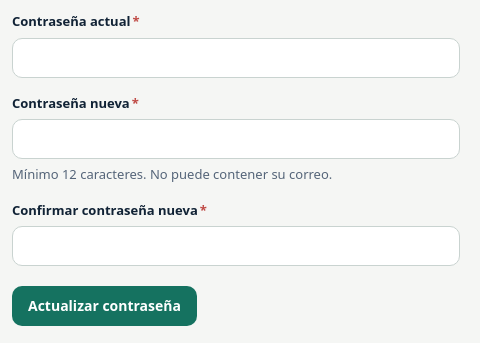
Test: ChangePasswordForm › requires at least 12 characters
This screenshot has width=480, height=343.
In the password field labelled "Contraseña actual*": (236,58) [12, 38, 460, 78], type "actual-1234567"
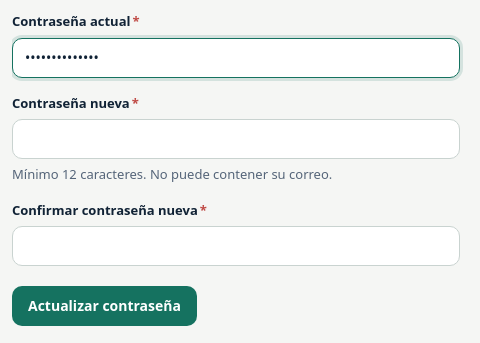
In the password field labelled "Contraseña nueva*": (236,139) [12, 119, 460, 159], type "corta123"
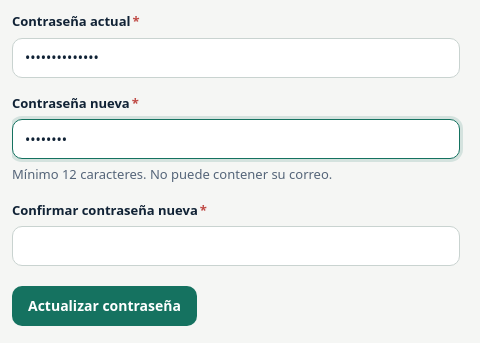
In the password field labelled "Confirmar contraseña nueva*": (236,246) [12, 226, 460, 266], type "corta123"
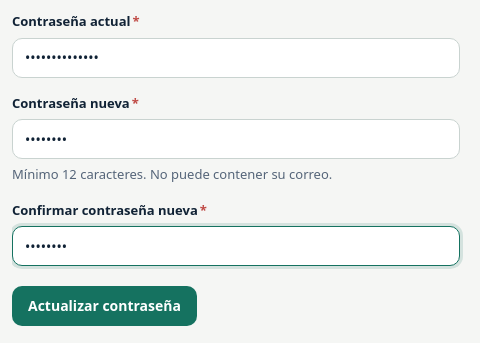
Click the button "Actualizar contraseña": (104,306) [12, 286, 197, 326]
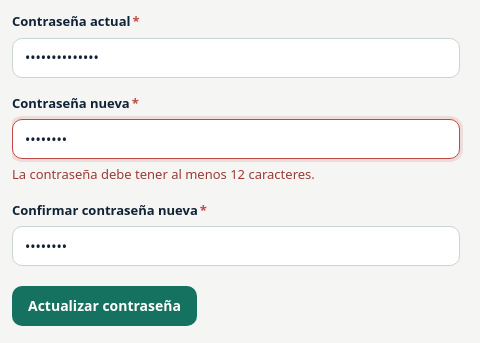
Result: the text "La contraseña debe tener al menos 12 caracteres." is shown at [12, 165, 315, 183]
